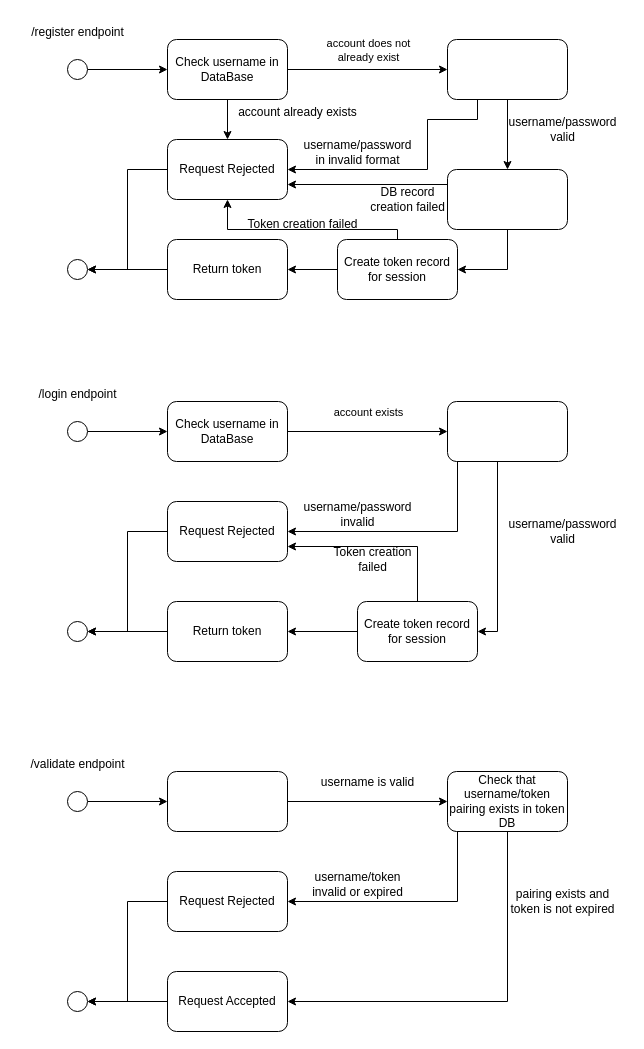
The diagram is 644 pixels wide and 1049 high, and some of its shapes have lost their labels. Each missing label, with the box of its shape:
Check that username/password match existing record: (446, 400, 568, 462)
Check username is valid: (166, 770, 288, 832)
Create DB record for account: (446, 168, 568, 230)
Verify username and password requirements: (446, 38, 568, 100)
